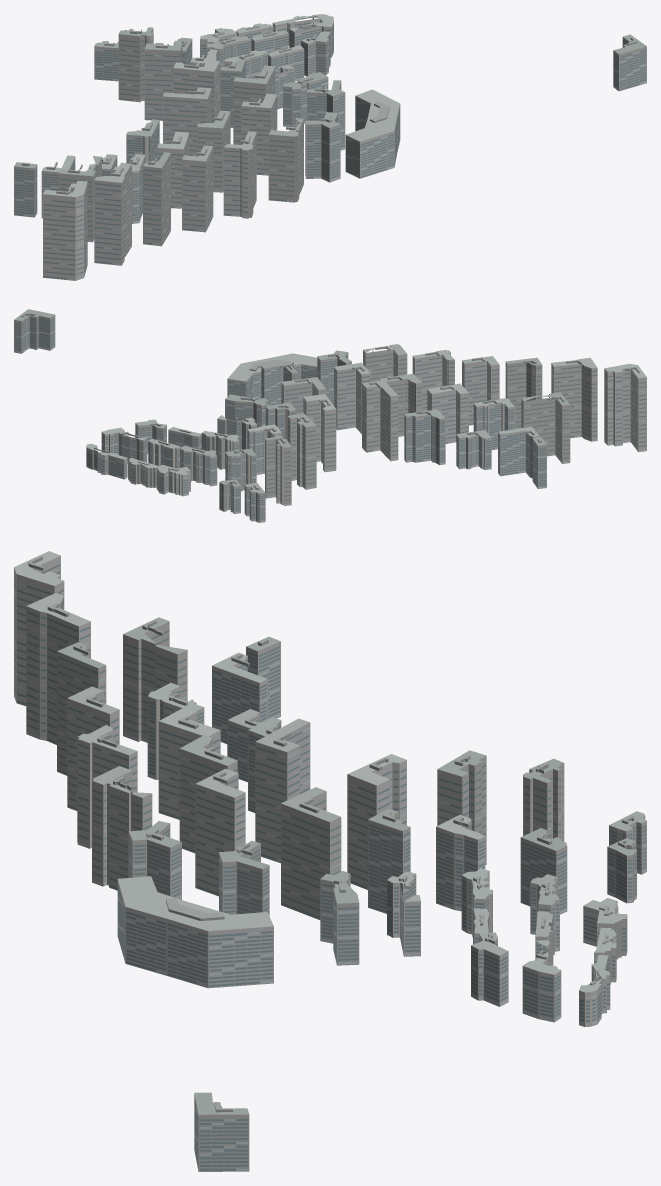
Rendered from residual-three-completion-apt-a10025263.glb.
3 renders of one model, top to bottom at view 1: azimuth 30°, elevation 25°; view 2: azimuth 150°, elevation 25°; view 3: azimuth 270°, elevation 25°, orthographic. The views are drawn at different scales.
Parts seen in each view (by area): view 1: residual-three-completion-apt-a10025263; view 2: residual-three-completion-apt-a10025263; view 3: residual-three-completion-apt-a10025263.
Boxes of the visible parts, x1,y1,x2,y2 form: residual-three-completion-apt-a10025263: (14, 14, 646, 280); residual-three-completion-apt-a10025263: (14, 309, 646, 522); residual-three-completion-apt-a10025263: (14, 551, 646, 1171).
Size of the model in its own units: 845 by 106 by 460.
